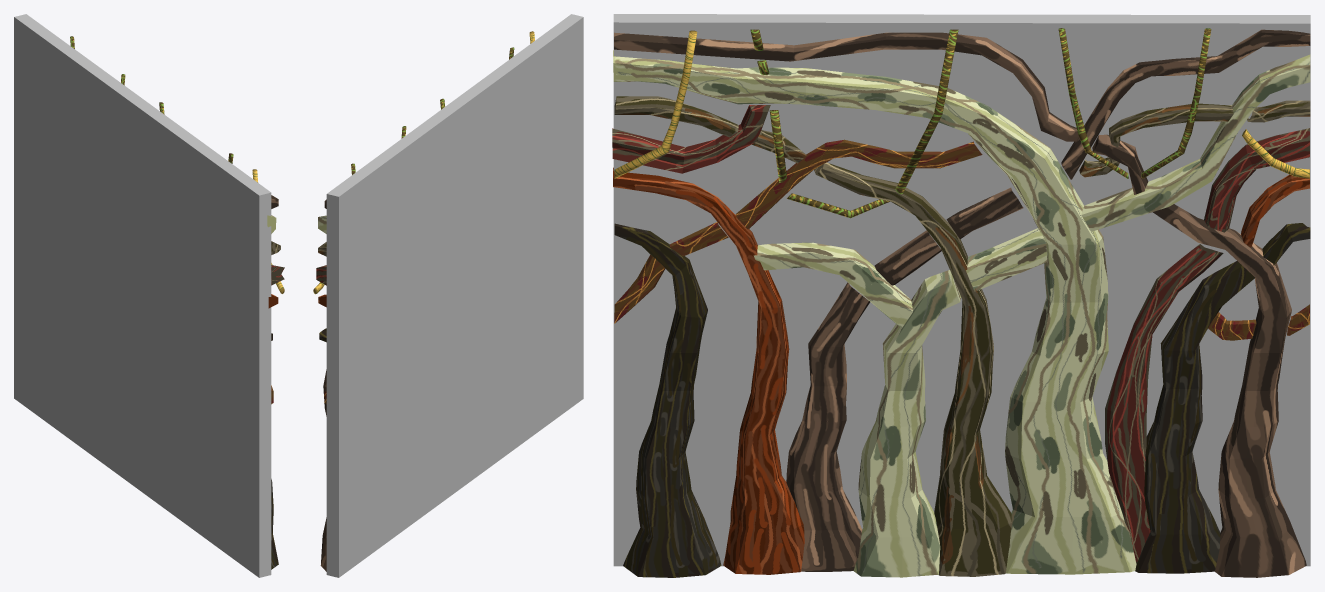
Rendered from PastWall.fbx.
3 renders of one model, left to right at view 1: azimuth 30°, elevation 25°; view 2: azimuth 150°, elevation 25°; view 3: azimuth 270°, elevation 25°, orthographic. The views are drawn at different scales.
Visible parts, largest first — view 1: Árboles.002; view 2: Árboles.002; view 3: Árboles.002.
Part boxes in pixels (x1=…): Árboles.002: x1=14, y1=14, x2=284, y2=577; Árboles.002: x1=313, y1=14, x2=583, y2=577; Árboles.002: x1=612, y1=14, x2=1310, y2=577.
Size of the model in its own units: 140 by 1720 by 2002.
